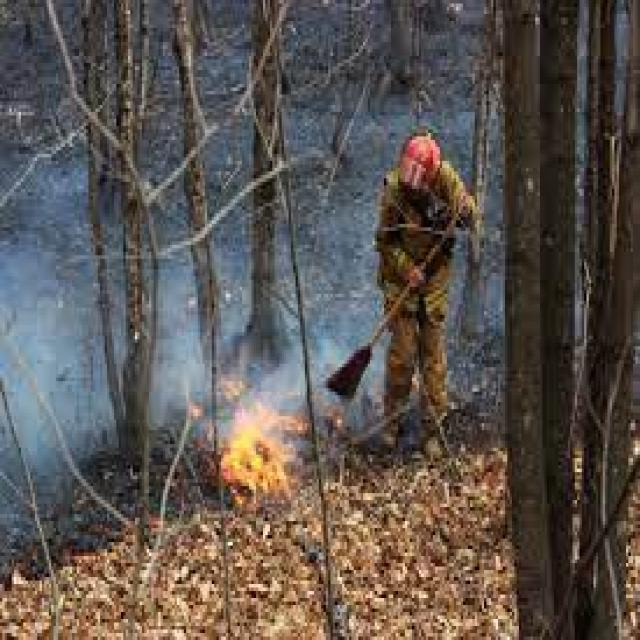Fire: (174, 342, 346, 514)
